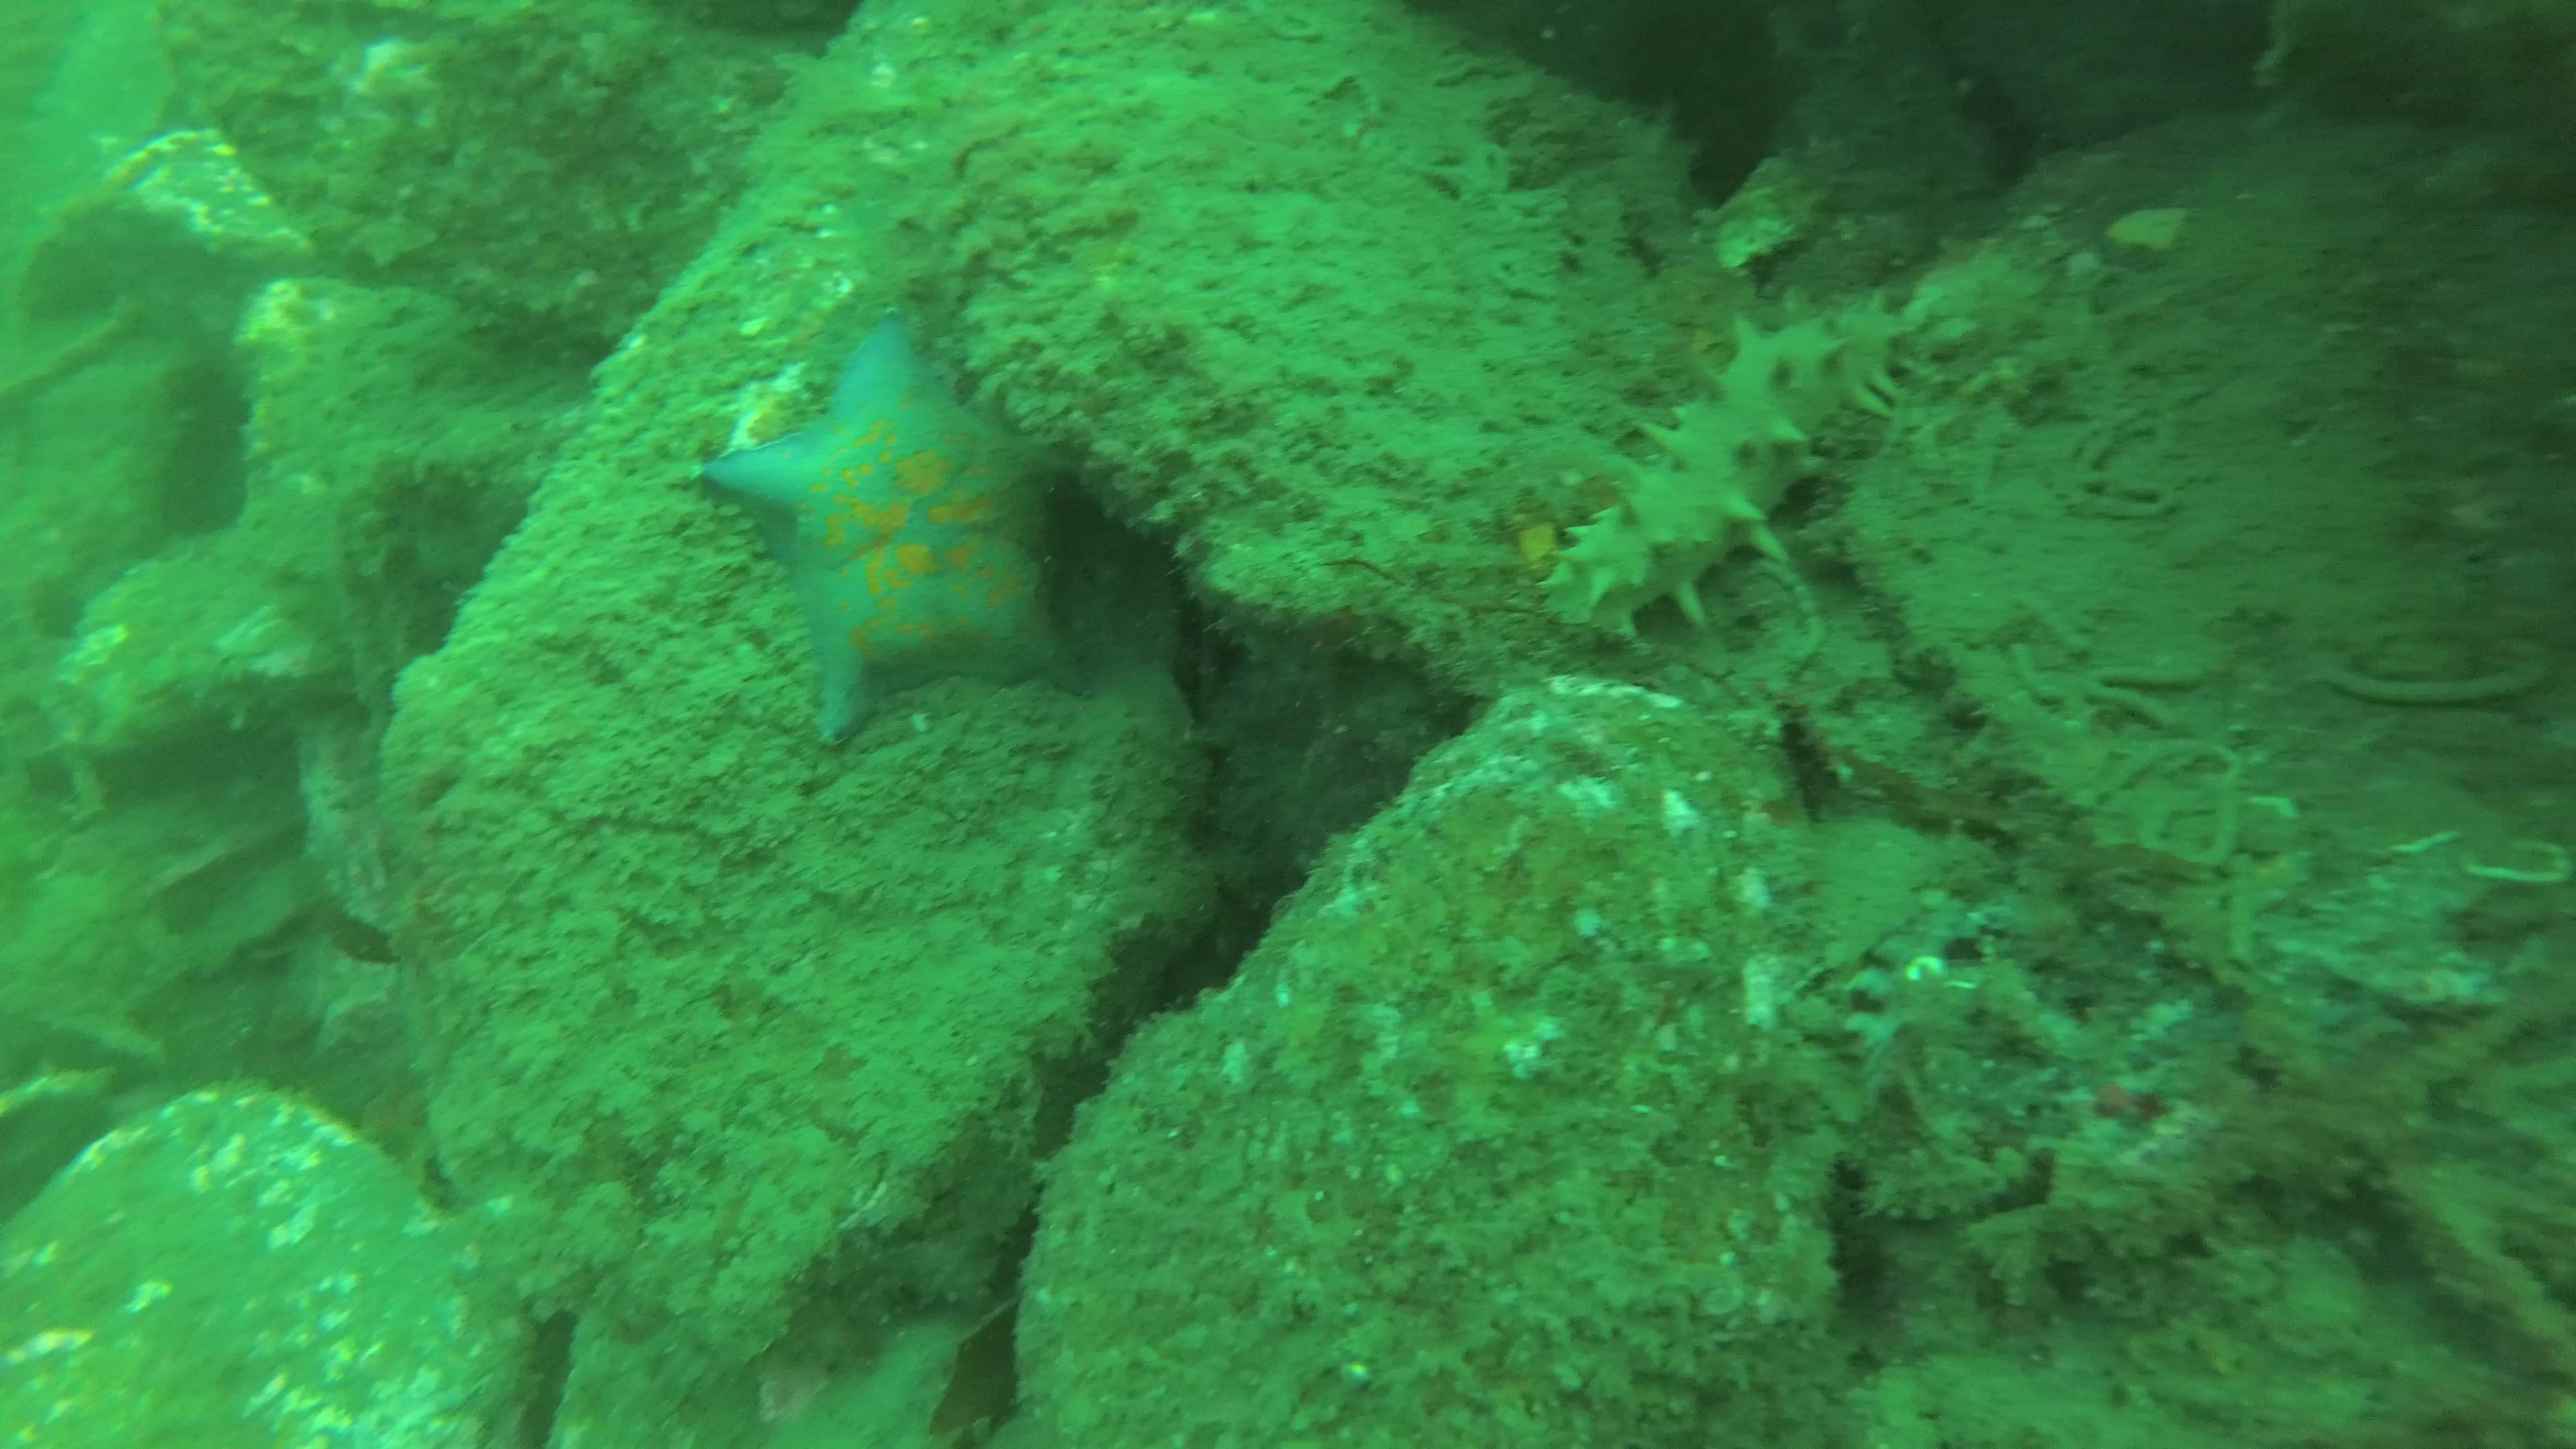holothurian: (1537, 285, 1920, 644)
starfish: (702, 320, 1092, 747)
